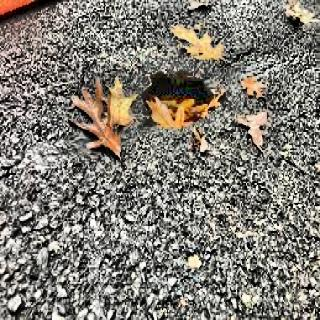alligator-crack: (1, 168, 167, 320)
pothole: (139, 72, 222, 129)
